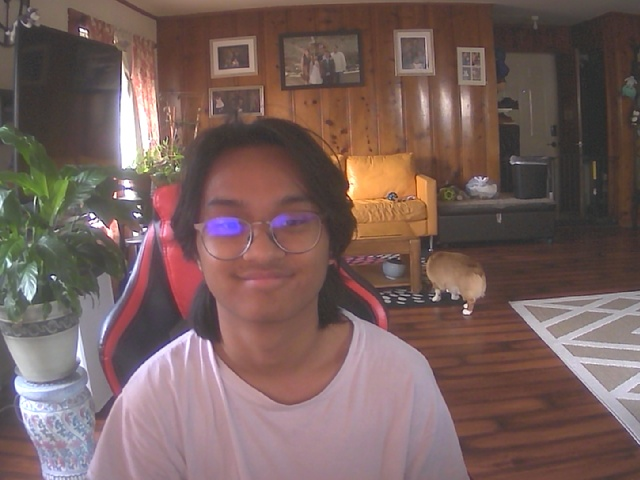happy: (189, 126, 342, 325)
